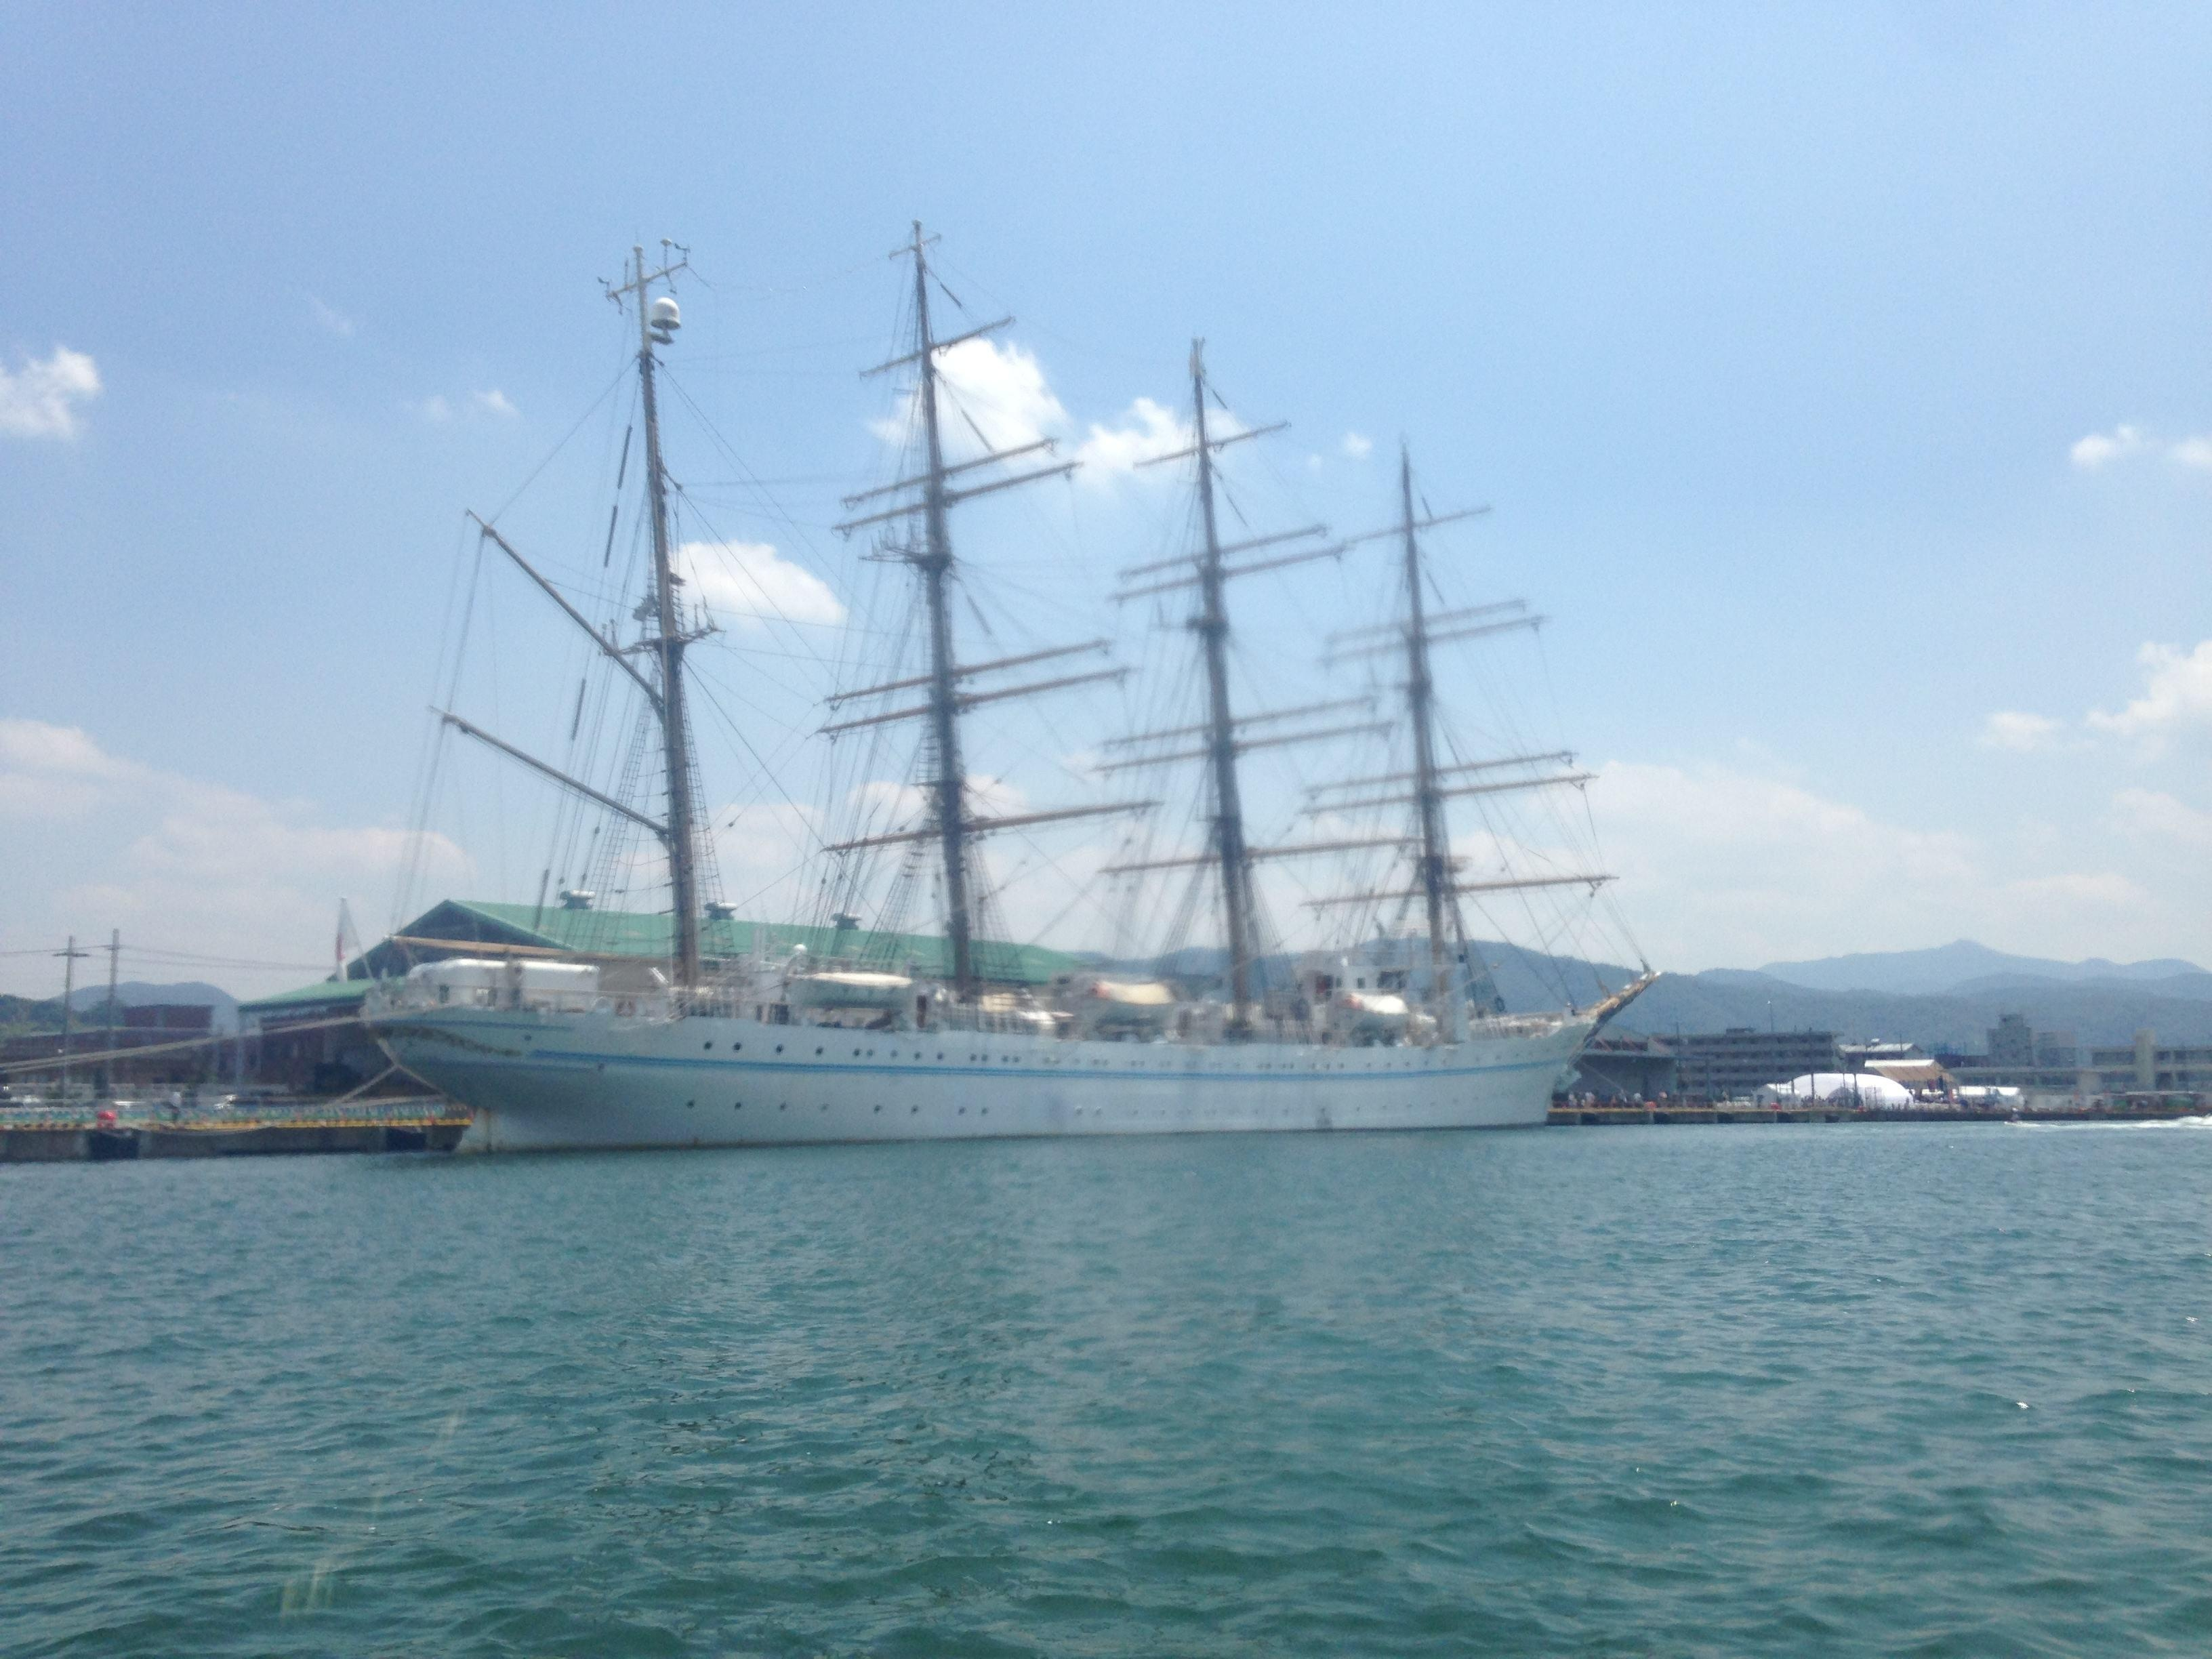fanchuan: (355, 221, 1649, 1136)
